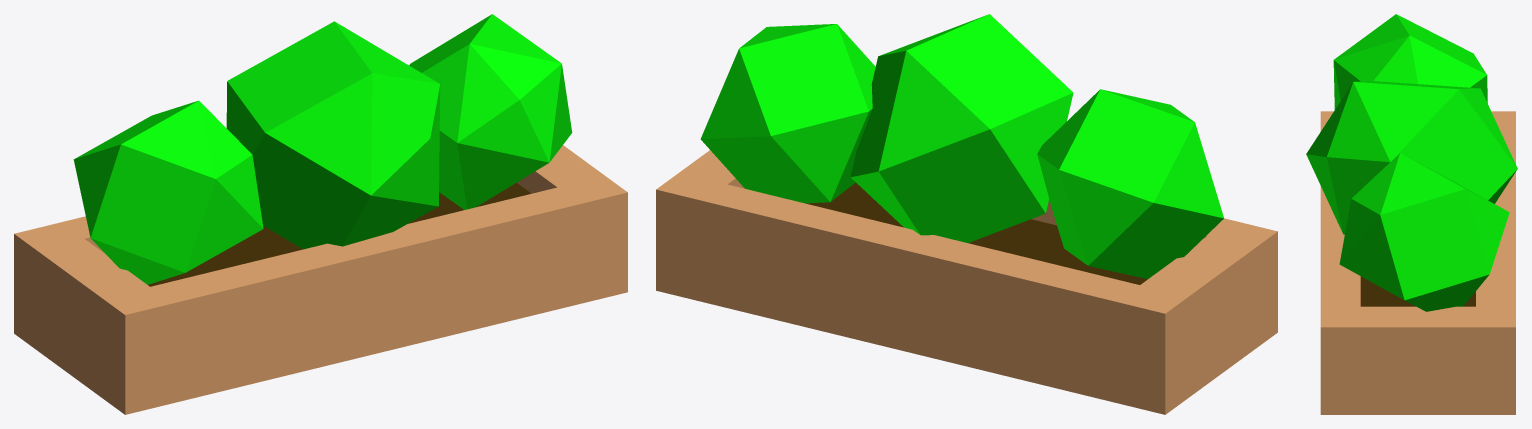
File: PotPlants.fbx
3 views of the same model, side by side, from view 1: azimuth 30°, elevation 25°; view 2: azimuth 150°, elevation 25°; view 3: azimuth 270°, elevation 25° (orthographic). The views are drawn at different scales.
Parts seen in each view (by area): view 1: SM_Prop_Potplants_01; view 2: SM_Prop_Potplants_01; view 3: SM_Prop_Potplants_01.
Boxes of the visible parts, left/top/right/bottom form: SM_Prop_Potplants_01: left=14, top=14, right=627, bottom=414; SM_Prop_Potplants_01: left=656, top=14, right=1277, bottom=414; SM_Prop_Potplants_01: left=1306, top=14, right=1517, bottom=414.
Bounding box in the file's own units: 36.42 × 18.39 × 15.1.
